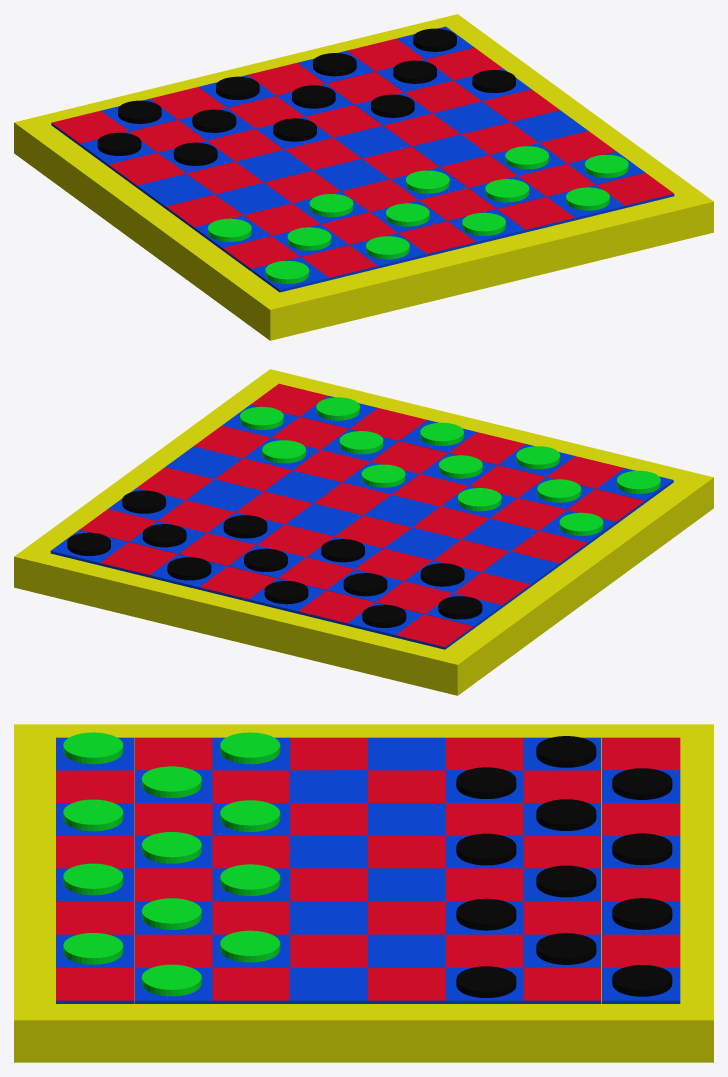
The model's file is Checkers.fbx.
3 renders of one model, top to bottom at view 1: azimuth 30°, elevation 25°; view 2: azimuth 150°, elevation 25°; view 3: azimuth 270°, elevation 25°, orthographic. The views are drawn at different scales.
Parts seen in each view (by area): view 1: Checkers; view 2: Checkers; view 3: Checkers.
Part boxes in pixels (<box>): Checkers: <box>14,14,713,340</box>; Checkers: <box>14,369,713,695</box>; Checkers: <box>14,724,713,1062</box>.
Size of the model in its own units: 242 by 19.97 by 242.
